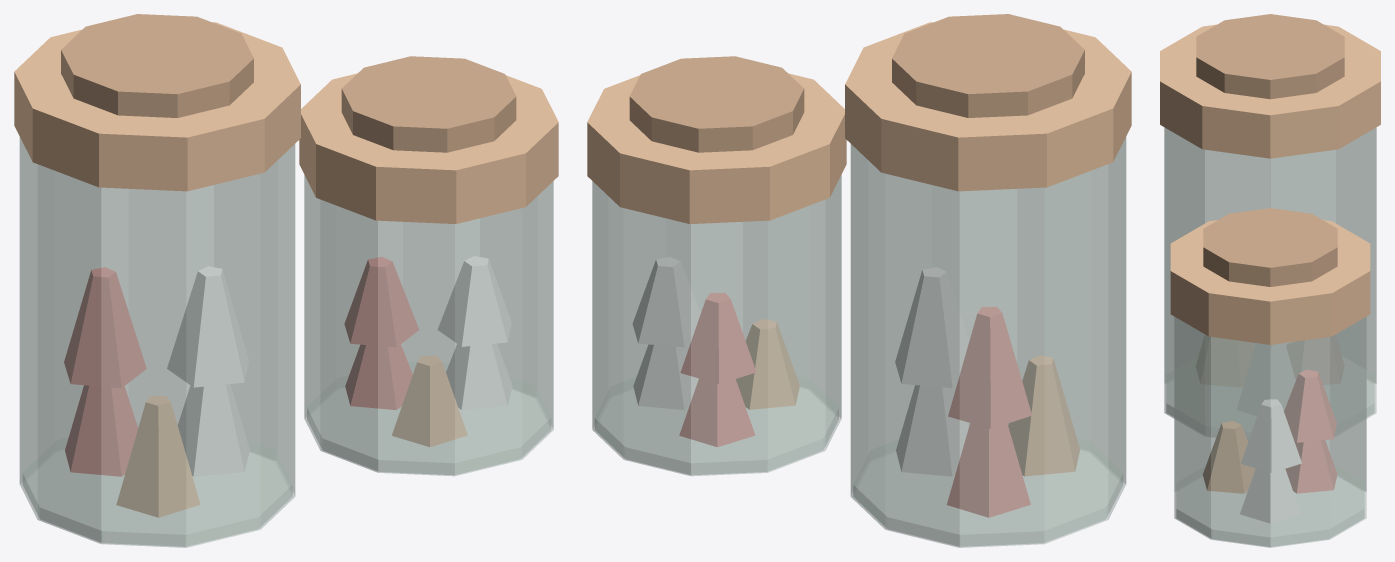
The model's file is shell_jars.glb.
3 views of the same model, side by side, from view 1: azimuth 30°, elevation 25°; view 2: azimuth 150°, elevation 25°; view 3: azimuth 270°, elevation 25° (orthographic). The views are drawn at different scales.
Visible parts, largest first — view 1: ShellJars; view 2: ShellJars; view 3: ShellJars.
Boxes of the visible parts, left/top/right/bottom form: ShellJars: left=14, top=14, right=558, bottom=547; ShellJars: left=587, top=14, right=1131, bottom=547; ShellJars: left=1160, top=14, right=1380, bottom=547.
Size of the model in its own units: 0.162 by 0.1327 by 0.0755.
